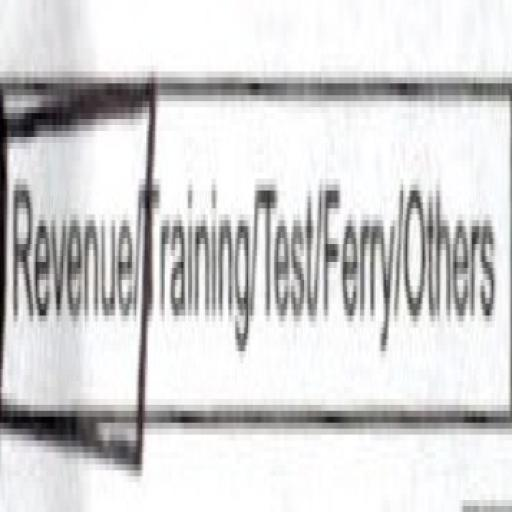check: (0, 38, 153, 512)
